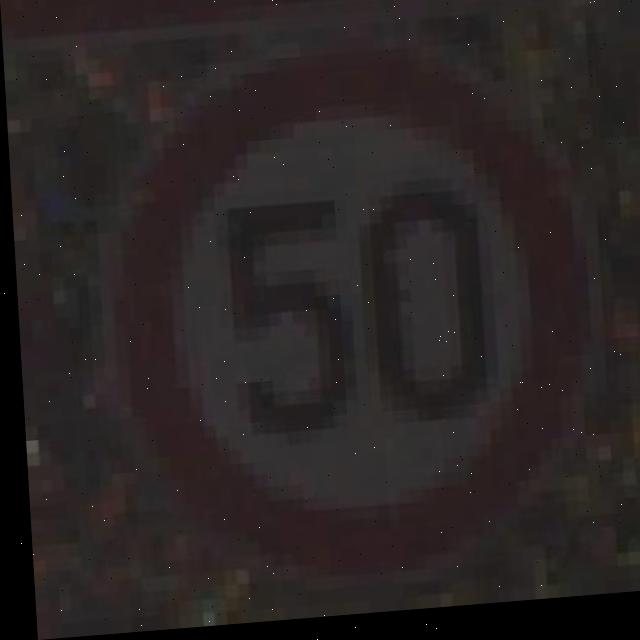Speed limit 50: (104, 37, 601, 556)
